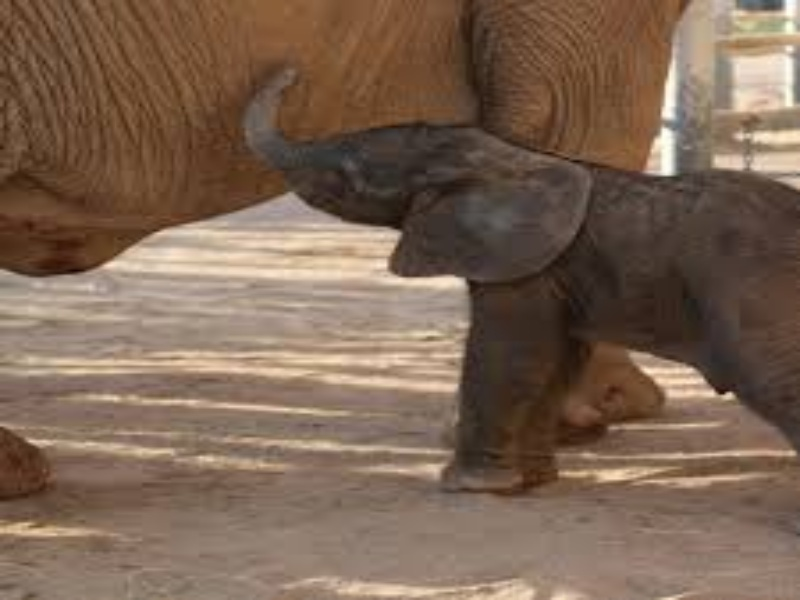elephant: (233, 56, 719, 565)
